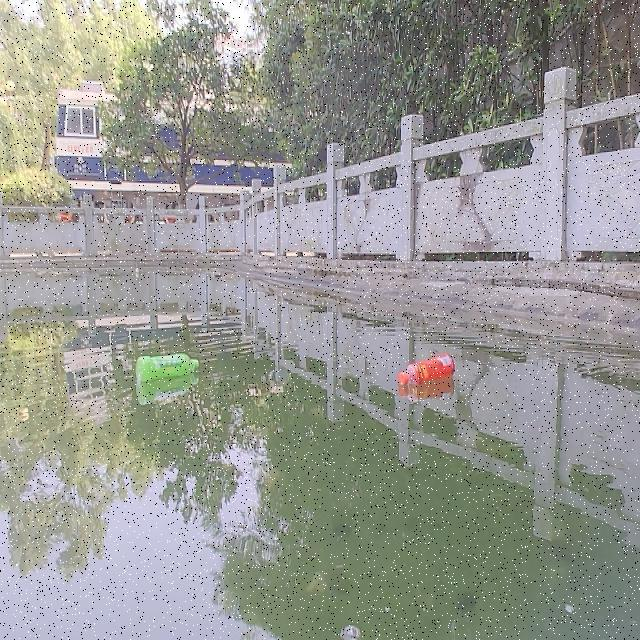Bottle: (127, 350, 205, 394), (393, 350, 461, 396)
